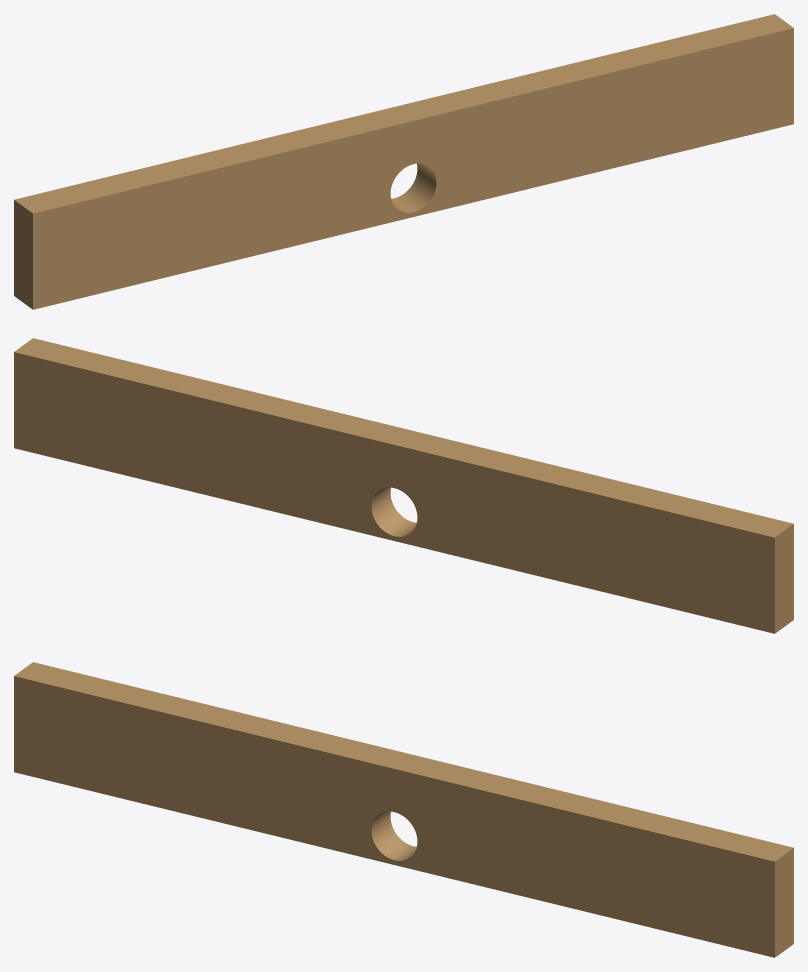
The model's file is gab_painel.glb.
3 views of the same model, one above another, from view 1: azimuth 30°, elevation 25°; view 2: azimuth 150°, elevation 25°; view 3: azimuth 330°, elevation 25° (orthographic).
Visible parts, largest first — view 1: gab_painel; view 2: gab_painel; view 3: gab_painel.
Part boxes in pixels (bbox=[...]): gab_painel: bbox=[14, 14, 793, 309]; gab_painel: bbox=[14, 338, 793, 633]; gab_painel: bbox=[14, 662, 793, 957].
Bounding box in the file's own units: 414 × 50 × 18.
